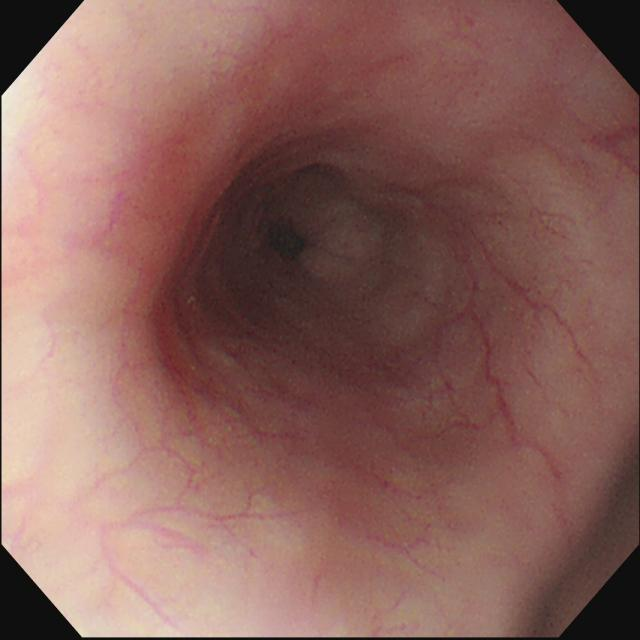A: (147, 242, 254, 406), (575, 125, 640, 173)
E: (256, 210, 315, 272)
